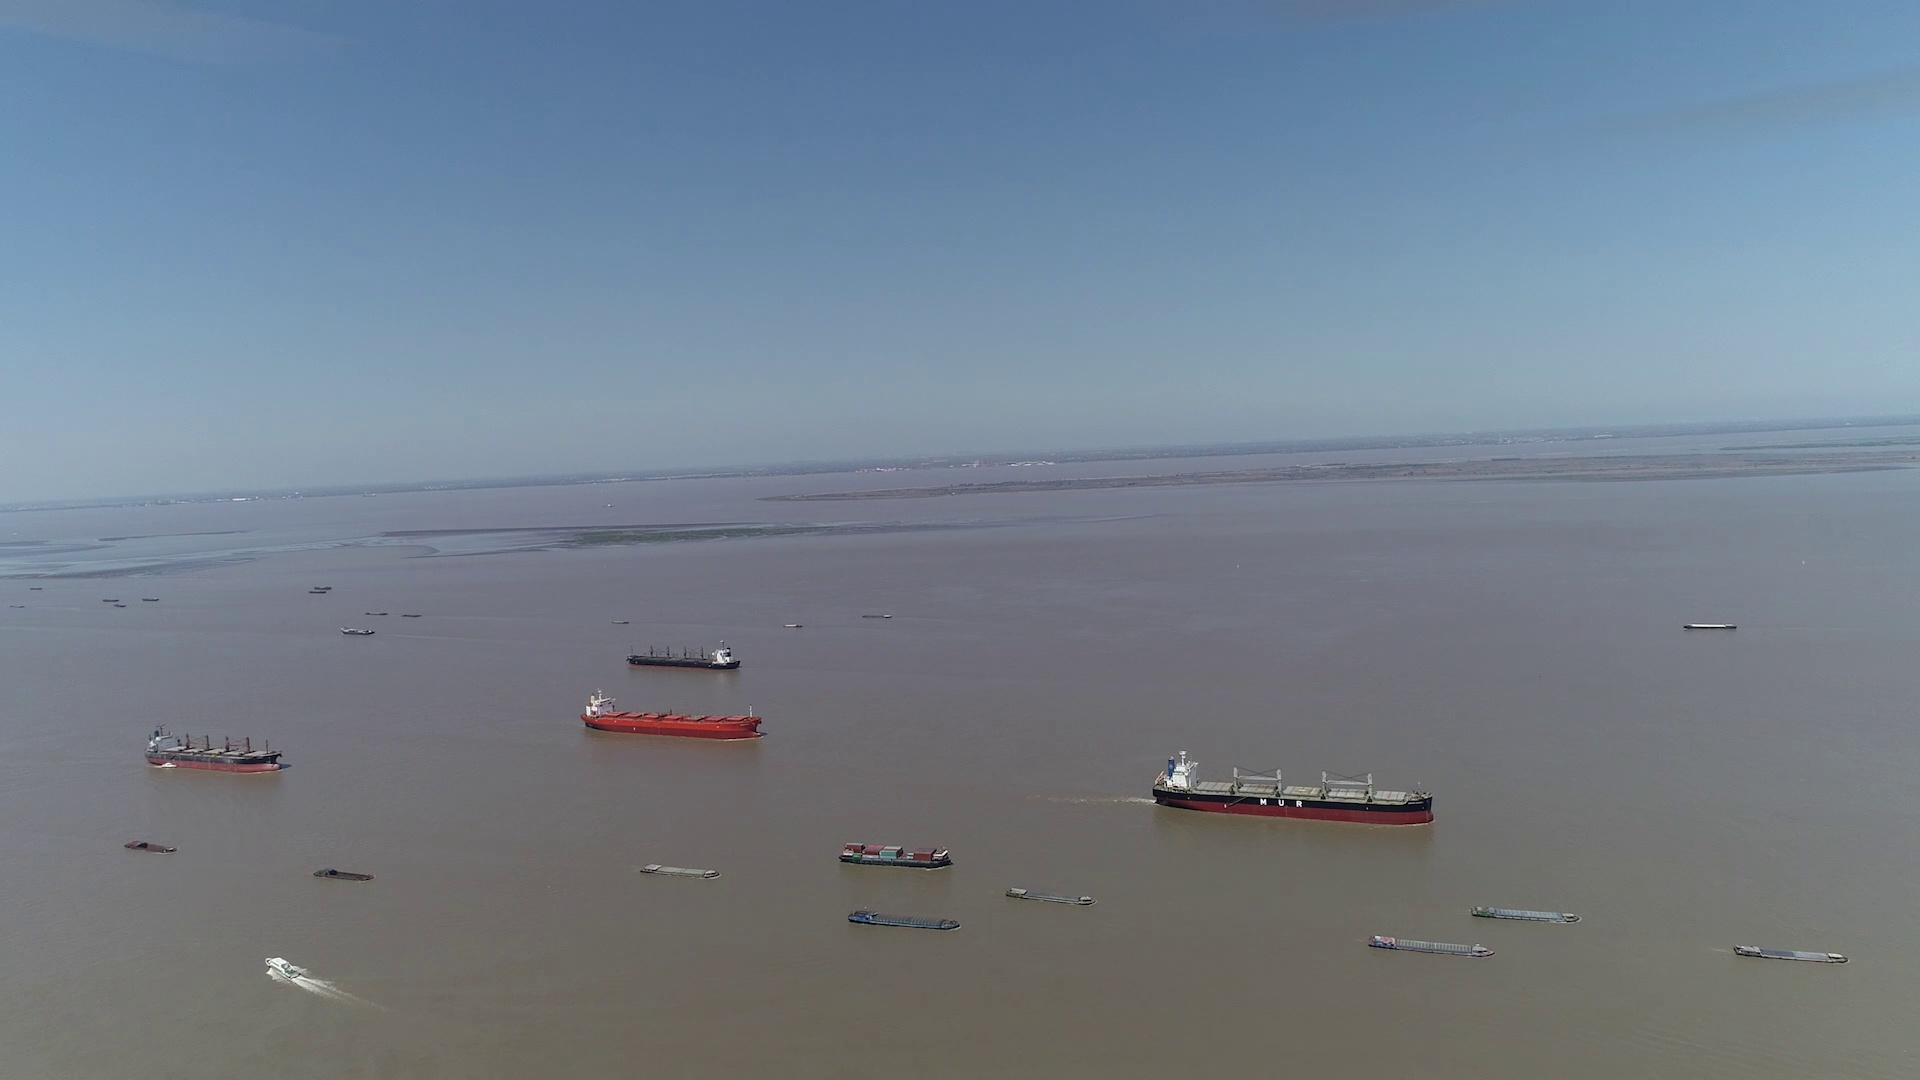ship: (1155, 750, 1436, 825), (579, 690, 762, 740), (144, 725, 284, 773), (626, 642, 741, 669), (837, 843, 952, 869), (1367, 935, 1495, 957), (1733, 942, 1849, 963), (847, 909, 963, 928), (1472, 905, 1577, 923), (1006, 886, 1093, 906), (640, 862, 721, 878), (315, 868, 378, 881), (124, 839, 175, 853), (262, 956, 295, 978), (1687, 622, 1737, 632), (343, 626, 376, 636)
